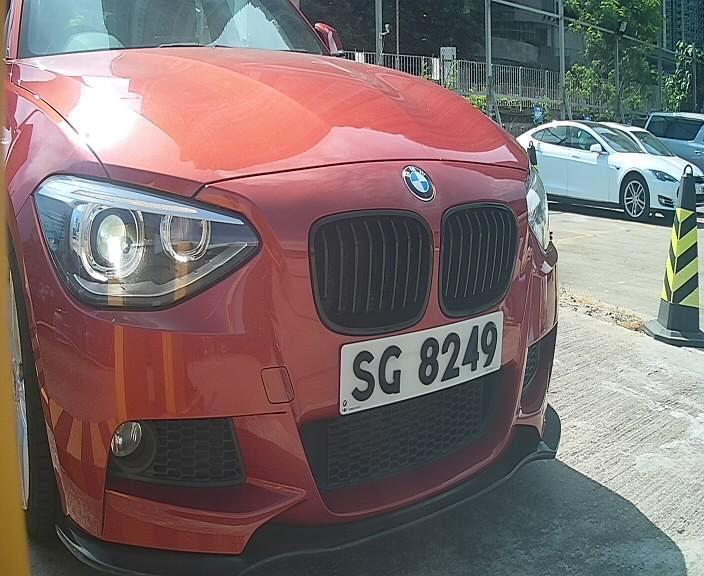privatecar: (26, 11, 585, 546)
